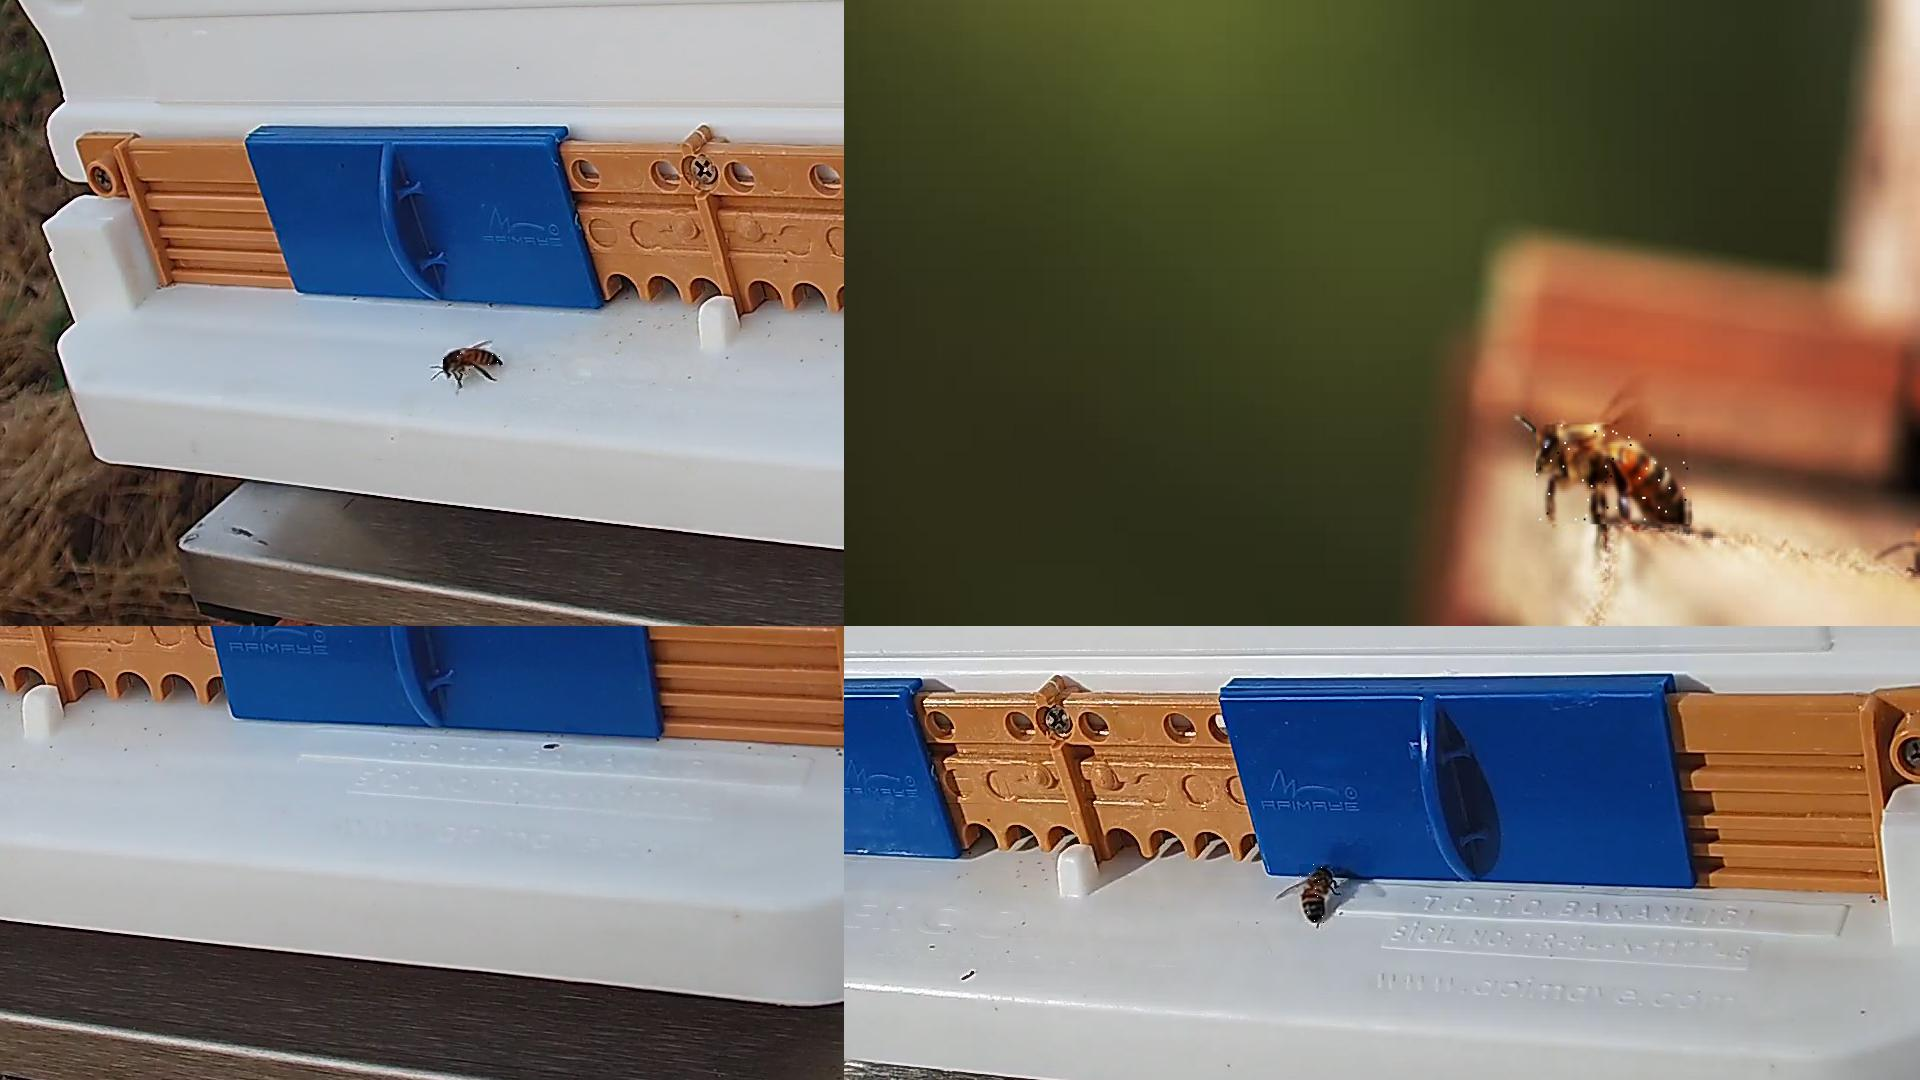bee: (1538, 424, 1693, 526), (1299, 864, 1332, 924), (444, 349, 502, 376)
